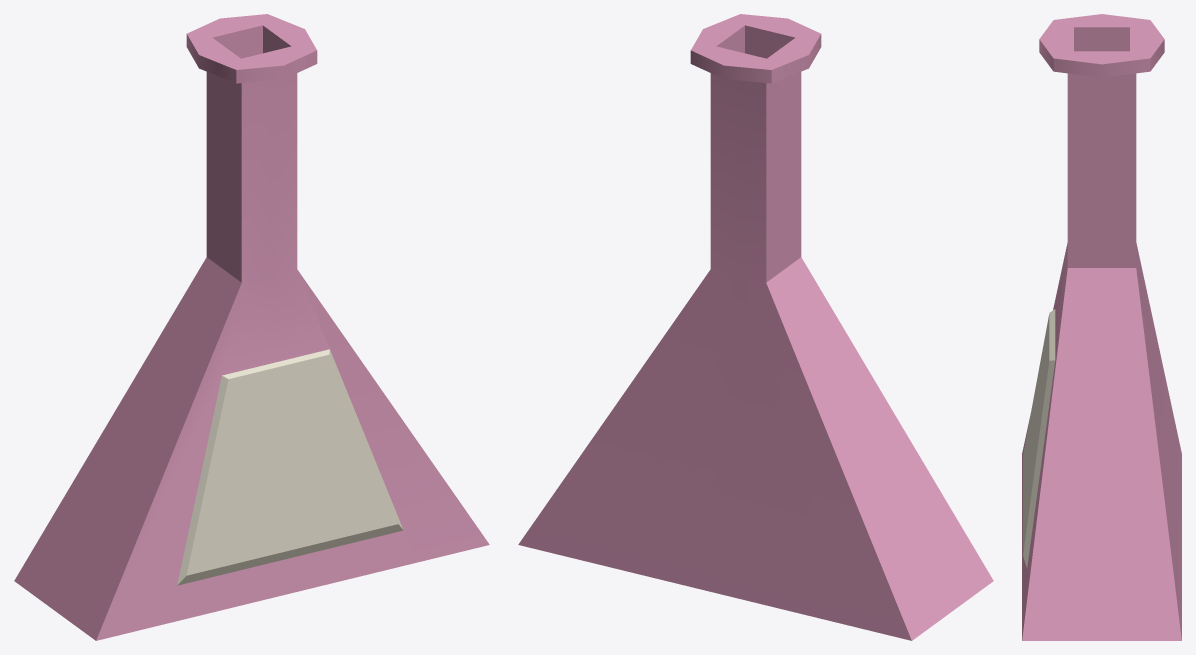
Rendered from potionVie.fbx.
3 views of the same model, side by side, from view 1: azimuth 30°, elevation 25°; view 2: azimuth 150°, elevation 25°; view 3: azimuth 270°, elevation 25° (orthographic). The views are drawn at different scales.
Parts seen in each view (by area): view 1: potionVie; view 2: potionVie; view 3: potionVie.
Part boxes in pixels (<box>): potionVie: <box>14,14,489,640</box>; potionVie: <box>518,14,993,640</box>; potionVie: <box>1022,14,1181,640</box>.
Bounding box in the file's own units: 70.6 × 89.24 × 25.43.
